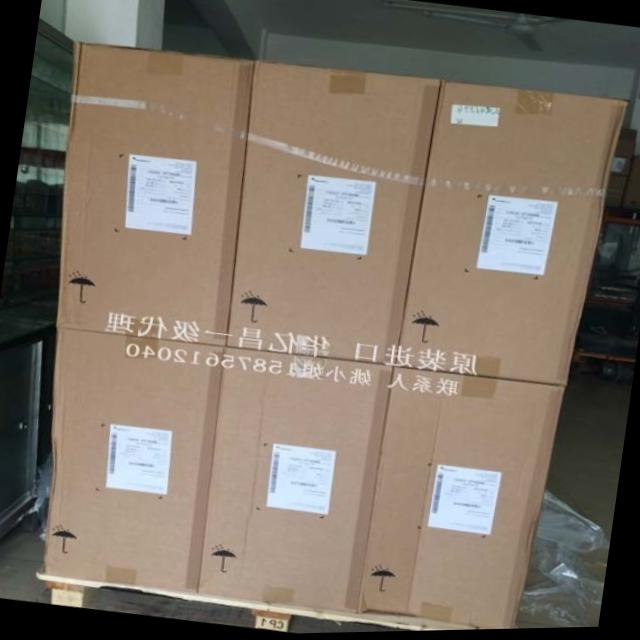box: (394, 83, 628, 390), (225, 61, 440, 369), (56, 43, 255, 348), (356, 367, 566, 632), (195, 348, 394, 621), (44, 330, 224, 596), (621, 157, 640, 214)
